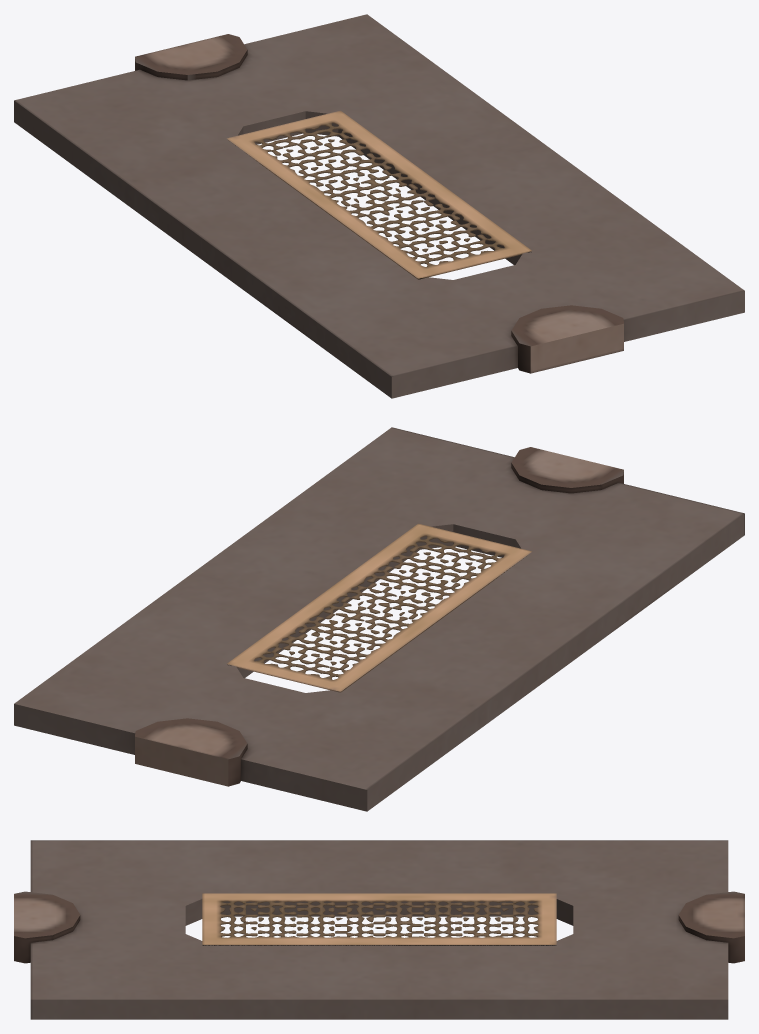
File: track_bed_hole_mesh.obj
3 views of the same model, one above another, from view 1: azimuth 30°, elevation 25°; view 2: azimuth 150°, elevation 25°; view 3: azimuth 270°, elevation 25° (orthographic). The views are drawn at different scales.
Visible parts, largest first — view 1: track_bed_hole, mesh, end_hinge_1, end_hinge_2; view 2: track_bed_hole, mesh, end_hinge_2, end_hinge_1; view 3: track_bed_hole, mesh, end_hinge_1, end_hinge_2.
Boxes of the visible parts, <box> form: track_bed_hole: <box>14,14,744,398</box>; mesh: <box>226,110,531,279</box>; end_hinge_1: <box>511,305,623,373</box>; end_hinge_2: <box>135,34,247,80</box>; track_bed_hole: <box>14,427,744,811</box>; mesh: <box>227,523,532,692</box>; end_hinge_2: <box>135,718,247,786</box>; end_hinge_1: <box>511,447,623,493</box>; track_bed_hole: <box>30,840,728,1019</box>; mesh: <box>202,893,556,945</box>; end_hinge_1: <box>14,891,80,963</box>; end_hinge_2: <box>678,891,744,963</box>.
Bounding box in the file's own units: 2.12 × 0.1562 × 4.12.
3 materials, 3 textured.
